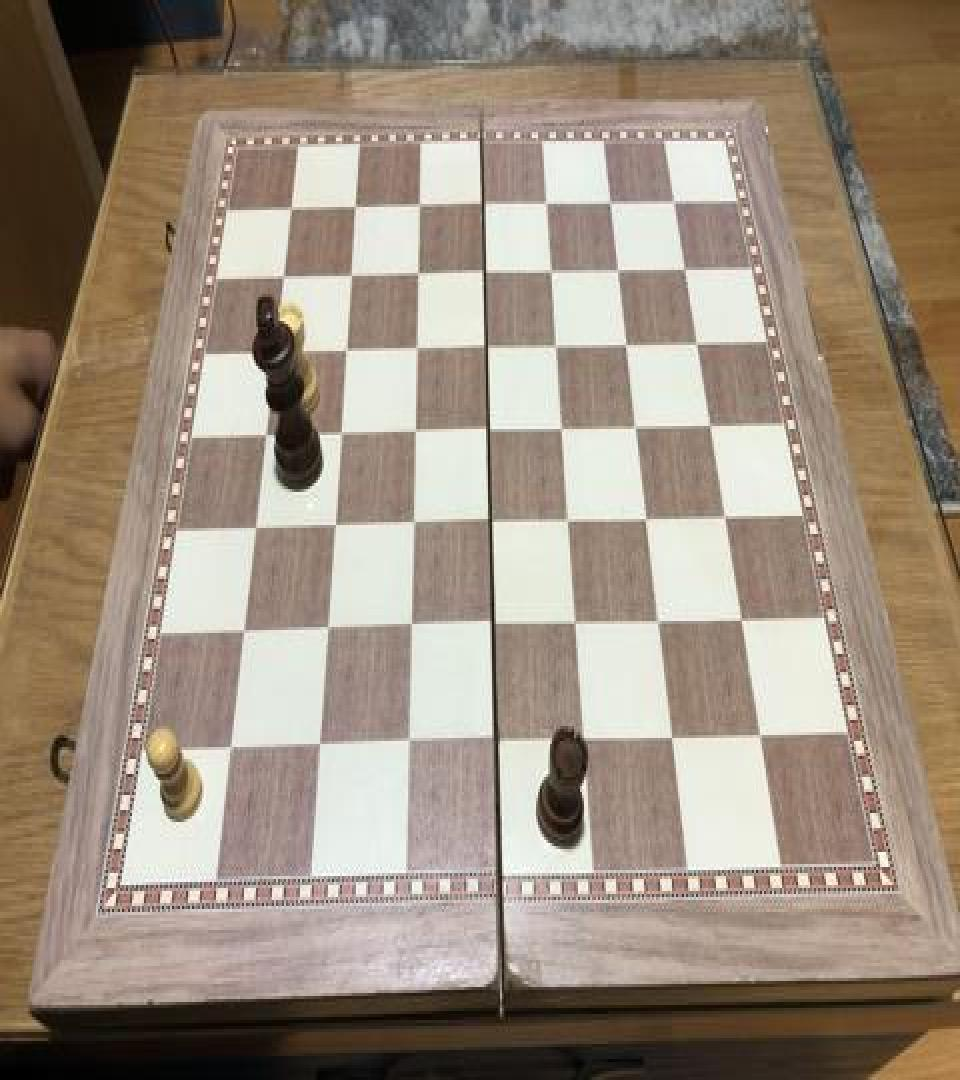xcorner: (479, 610, 503, 647), (393, 727, 417, 764), (668, 183, 692, 219), (602, 184, 626, 220), (537, 186, 561, 222), (407, 190, 431, 226), (343, 192, 367, 228), (278, 194, 302, 230), (678, 250, 702, 286), (610, 254, 634, 290), (541, 255, 565, 291), (473, 256, 497, 292), (405, 258, 429, 294), (338, 261, 362, 297), (270, 262, 294, 298), (689, 327, 713, 363), (546, 330, 570, 366), (475, 332, 499, 368), (403, 334, 427, 370), (332, 336, 356, 372), (262, 338, 286, 374), (702, 410, 726, 446), (551, 414, 575, 450), (476, 416, 500, 452), (401, 417, 425, 453), (326, 418, 350, 454), (252, 422, 276, 458), (716, 502, 740, 538), (636, 504, 660, 540), (557, 506, 581, 542), (478, 507, 502, 543), (399, 510, 423, 546), (320, 512, 344, 548), (242, 513, 266, 549), (732, 606, 756, 642), (647, 608, 671, 644), (563, 609, 587, 645), (396, 612, 420, 648), (313, 614, 337, 650), (230, 615, 254, 651), (749, 722, 773, 758), (659, 723, 683, 759), (570, 724, 594, 760), (481, 726, 505, 762), (305, 729, 329, 765), (217, 730, 241, 766), (472, 188, 496, 223), (618, 329, 642, 364), (626, 413, 650, 448)
